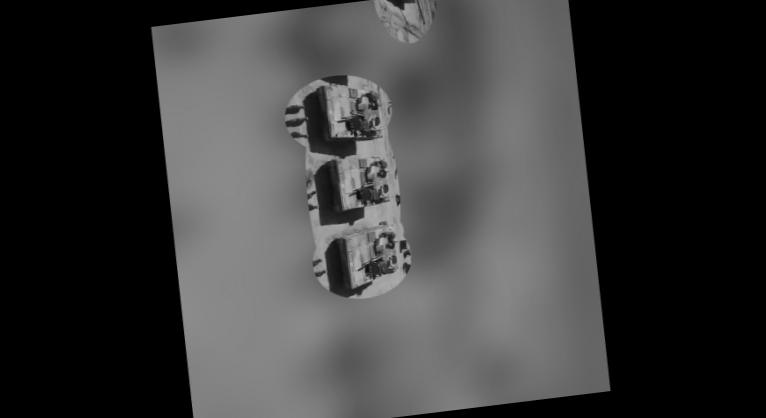tank: (330, 221, 408, 294), (307, 78, 385, 150), (318, 148, 399, 216), (377, 0, 432, 33)
